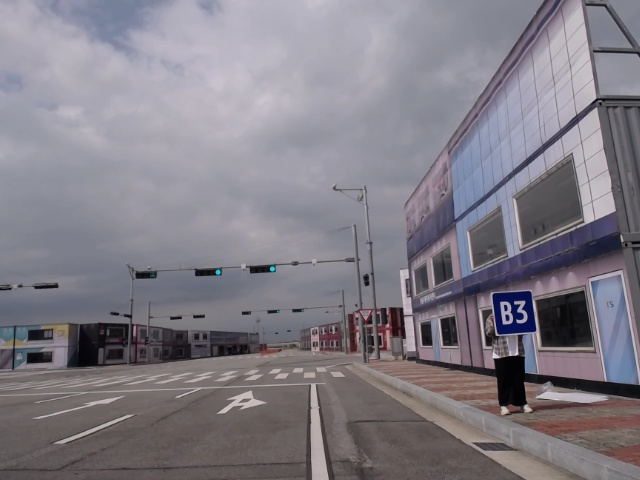delivery_b3: (491, 290, 540, 336)
straight_green_4: (192, 266, 225, 278), (248, 263, 278, 274), (266, 309, 282, 315), (292, 308, 305, 314)
